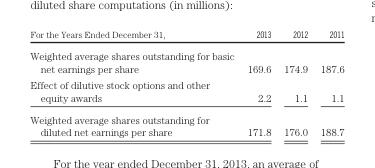table: (29, 28, 343, 137)
table column: (29, 28, 240, 137), (276, 28, 313, 137), (240, 28, 276, 137), (313, 28, 343, 137)
table column header: (29, 28, 343, 44)
table row: (29, 44, 343, 76), (29, 76, 343, 108), (29, 108, 343, 137), (29, 28, 343, 44)
